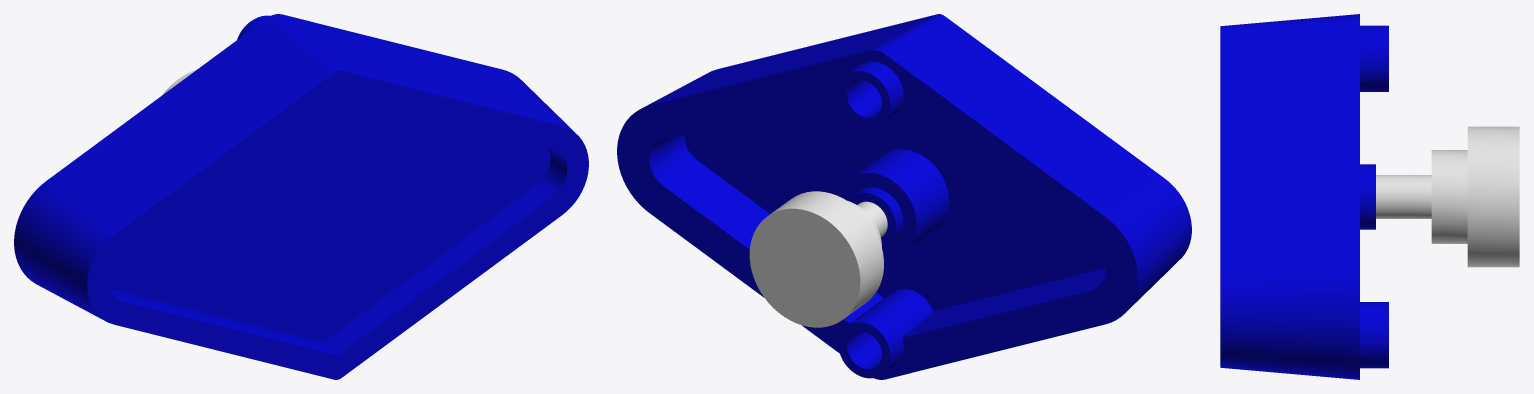
3 renders of one model, left to right at view 1: azimuth 30°, elevation 25°; view 2: azimuth 150°, elevation 25°; view 3: azimuth 270°, elevation 25°, orthographic. The views are drawn at different scales.
Bounding box in the file's own units: 59.69 × 35.99 × 27.
